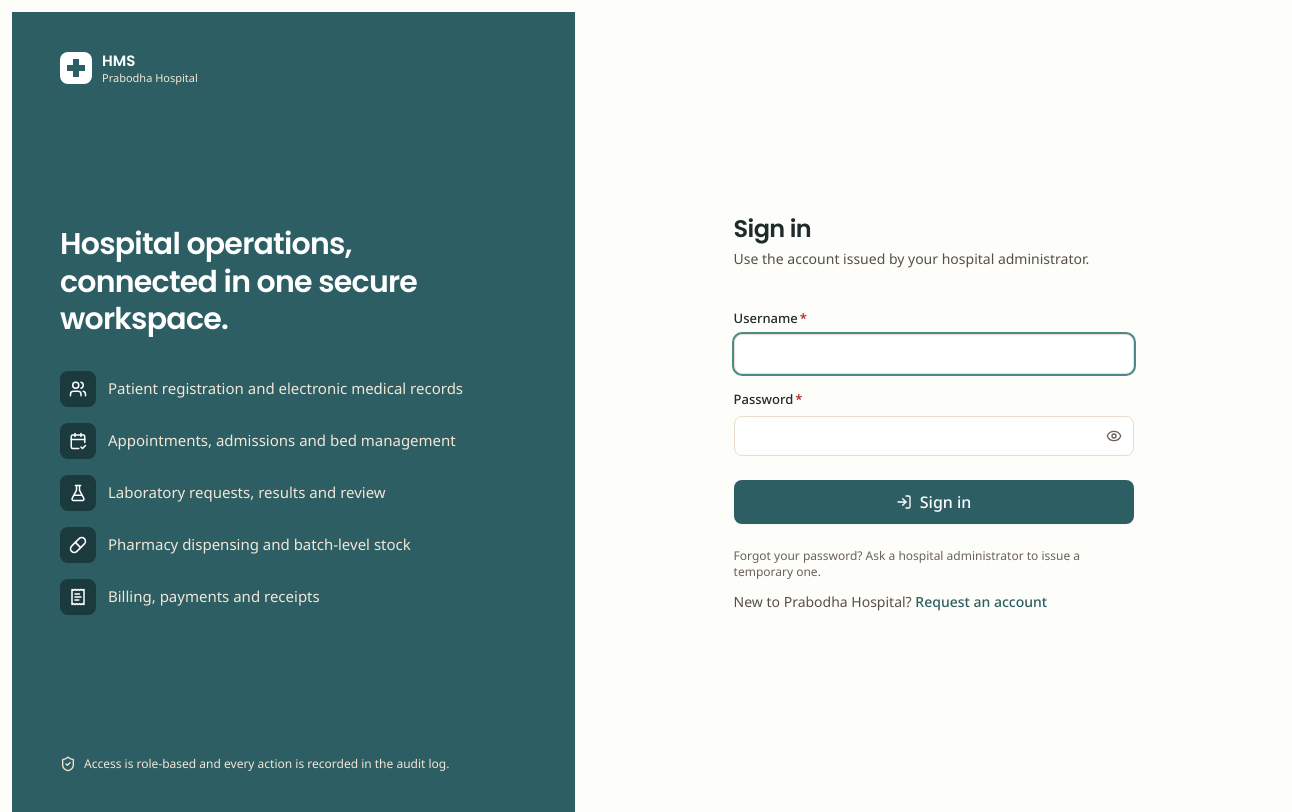
LoginPage › sends users with a temporary password to the change-password page
In the field labelled "Username*": point(934, 354) [734,334,1134,374], type " nimal "
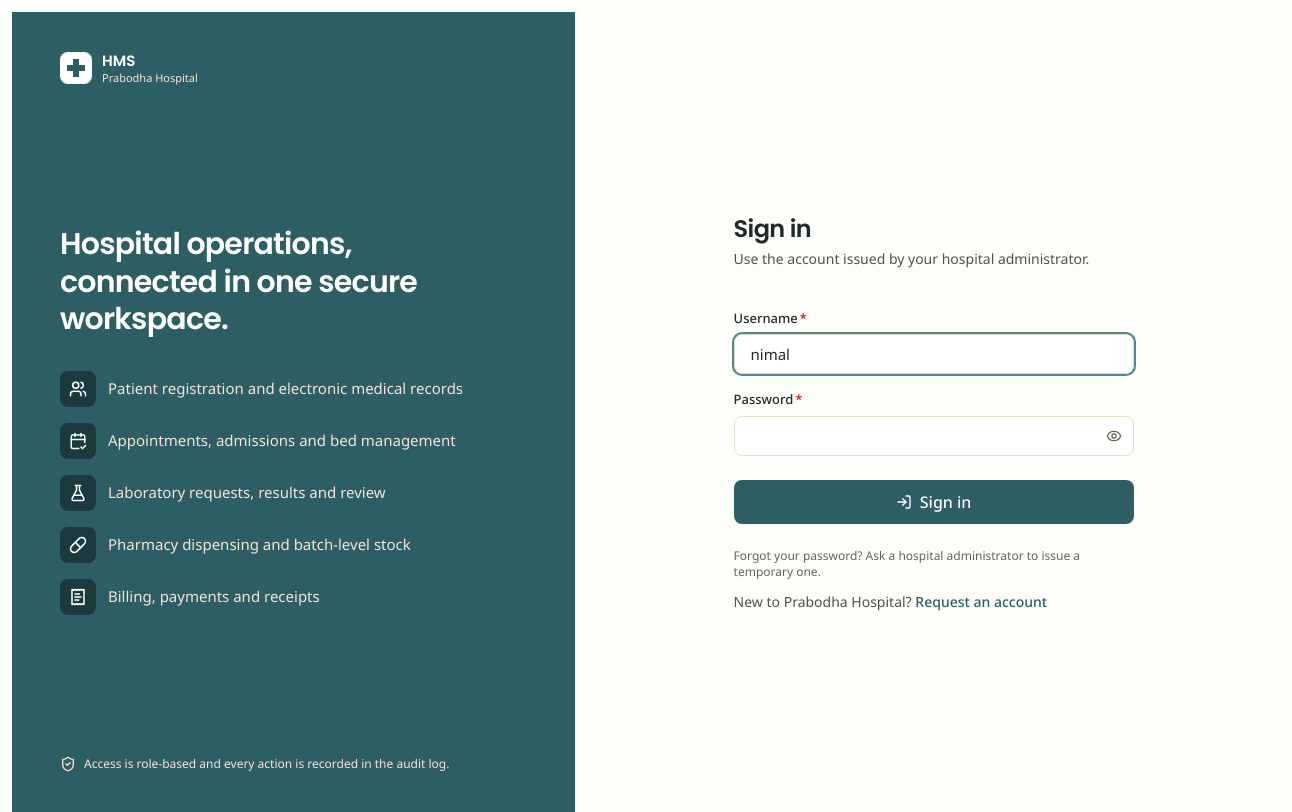
In the password field labelled "Password*": point(934, 436) [734,416,1134,456], type "Temp-Pass-123"
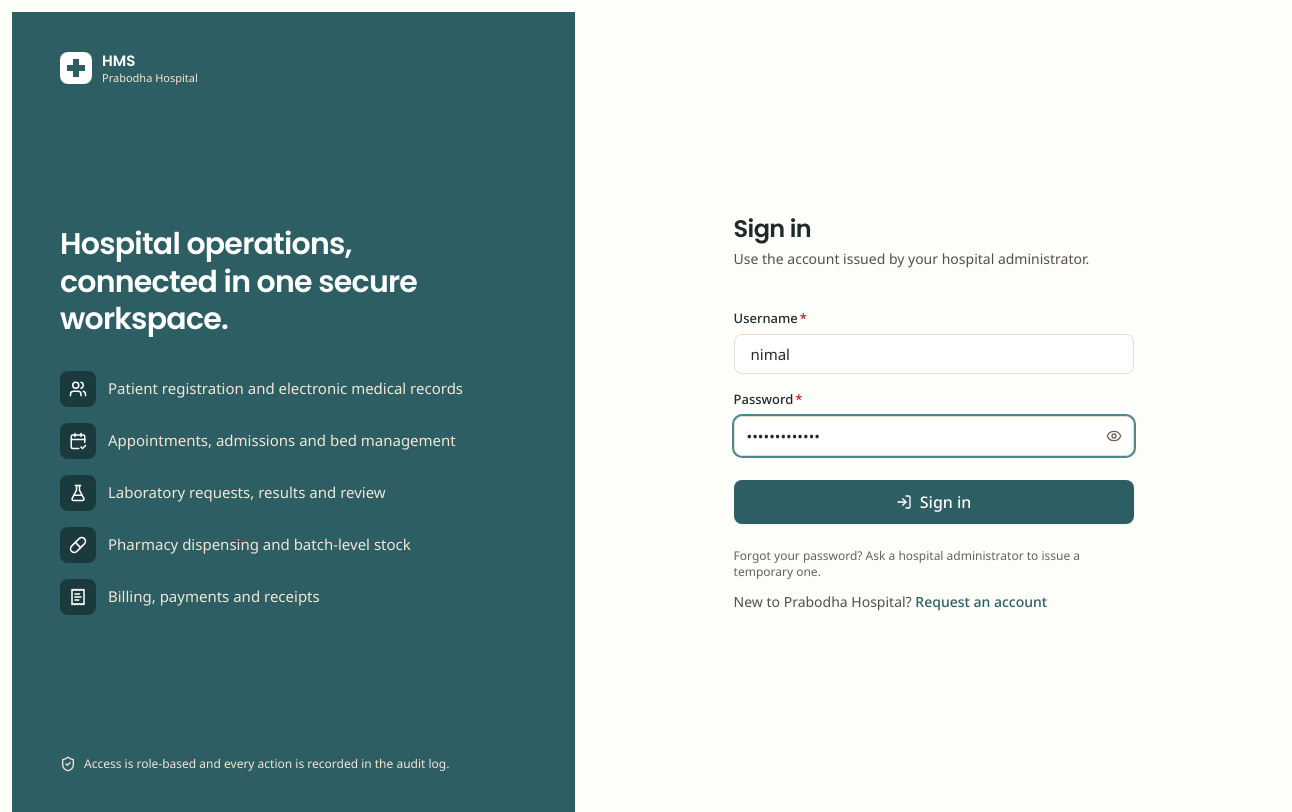
Click the button "Sign in": point(934, 502) [734,480,1134,524]
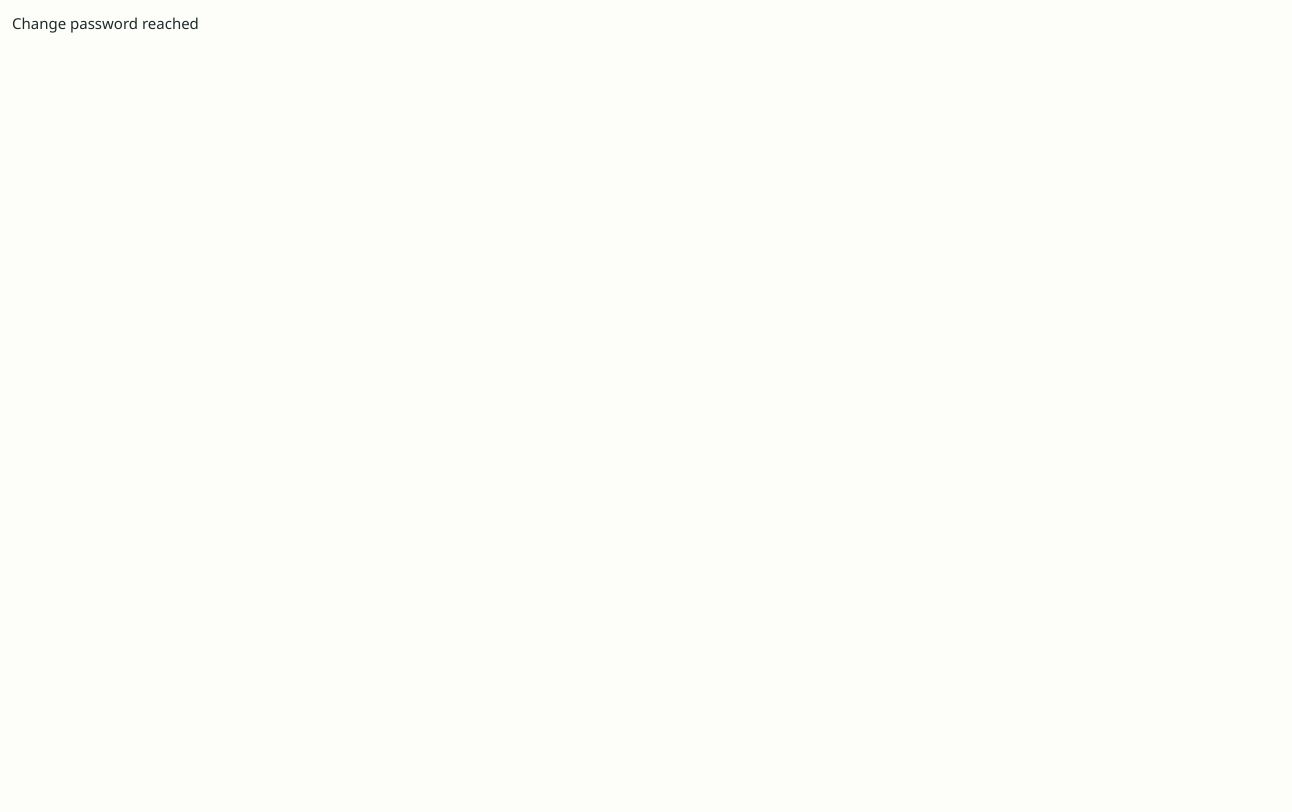
Result: the text "Change password reached" is shown at [12,13,199,33]
